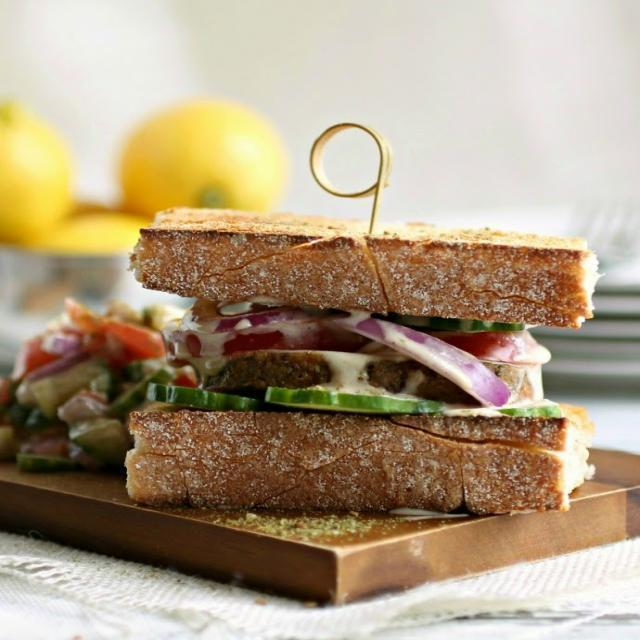middle east burger: (136, 211, 604, 518)
